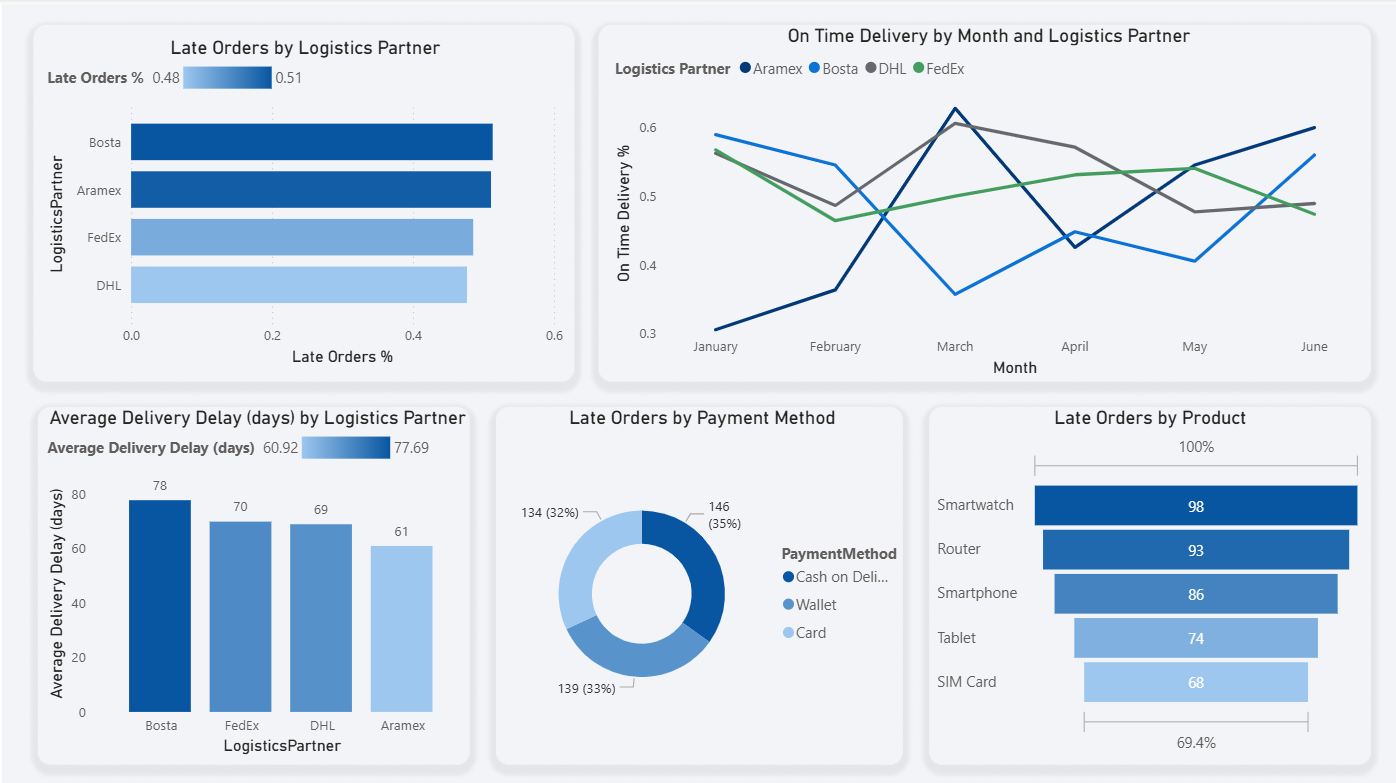

The dashboard page shown, as its layout file describes it:
{"tool":"powerbi","page":{"name":"Late/ On Time Orders","canvas":[1280,720],"ordinal":1},"visuals":[{"type":"image","box":[0,0,1280,720],"z":0},{"type":"lineChart","title":"On Time Delivery  by Month and Logistics Partner","fields":{"Category":["Date.Month Name"],"Y":["_Measures.On Time Delivery  %"],"Series":["Deliveries.LogisticsPartner"]},"box":[558.8,22.5,686.2,323.8],"z":1000},{"type":"donutChart","title":"Late Orders by Payment Method","fields":{"Category":["Orders.PaymentMethod"],"Y":["_Measures.Late Orders"]},"box":[456.2,368.8,371.2,320],"z":2000},{"type":"clusteredColumnChart","title":"Average Delivery Delay (days) by Logistics Partner","fields":{"Category":["Deliveries.LogisticsPartner"],"Y":["_Measures.Average Delivery Delay (days)"]},"box":[45,368.8,390,320],"z":3000},{"type":"funnel","title":"Late Orders by Product","fields":{"Category":["Products.ProductName"],"Y":["_Measures.Late Orders"]},"box":[850,368.8,395,320],"z":4000},{"type":"barChart","title":"Late Orders by Logistics Partner","fields":{"Y":["_Measures.Late Orders %"],"Category":["Deliveries.LogisticsPartner"]},"box":[45,33.8,476.2,302.5],"z":5000}]}

Visuals, with their boxes in screenshot pixels (x1, y1, x2, y2), scaled from the page's 1280x720 canvas onto the 1396x783 screenshot:
image: (x1=0, y1=0, x2=1395, y2=782)
"On Time Delivery  by Month and Logistics Partner" lineChart: (x1=609, y1=24, x2=1358, y2=377)
"Late Orders by Payment Method" donutChart: (x1=498, y1=401, x2=902, y2=749)
"Average Delivery Delay (days) by Logistics Partner" clusteredColumnChart: (x1=49, y1=401, x2=474, y2=749)
"Late Orders by Product" funnel: (x1=927, y1=401, x2=1358, y2=749)
"Late Orders by Logistics Partner" barChart: (x1=49, y1=37, x2=568, y2=366)
